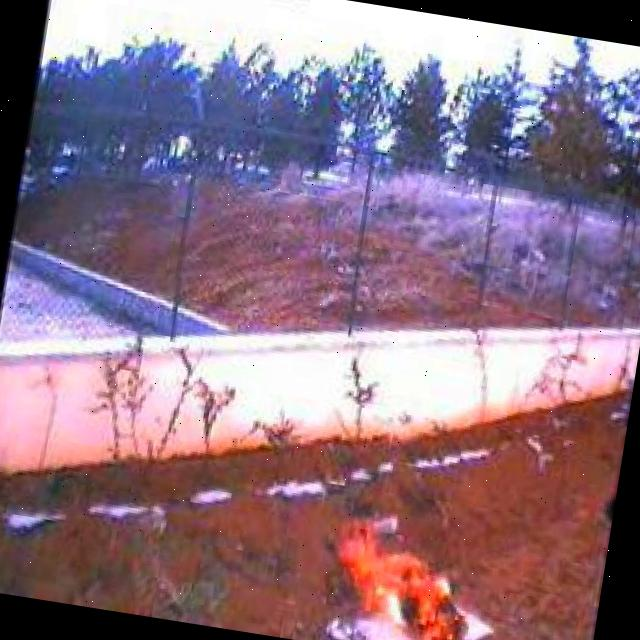fire: (321, 520, 484, 640)
